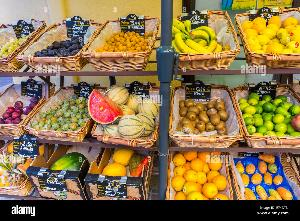banana: (172, 8, 236, 61)
grape: (0, 26, 36, 68)
kiwi: (170, 84, 240, 138)
lemon: (235, 10, 300, 58)
lime: (230, 81, 300, 144)
melon: (92, 76, 160, 142), (94, 142, 154, 200)
orange: (159, 144, 237, 212)
pineapple: (0, 146, 39, 192)
plum: (30, 7, 96, 68), (29, 84, 97, 138), (98, 18, 160, 66), (0, 92, 40, 134)
watermelon: (35, 139, 95, 195)
